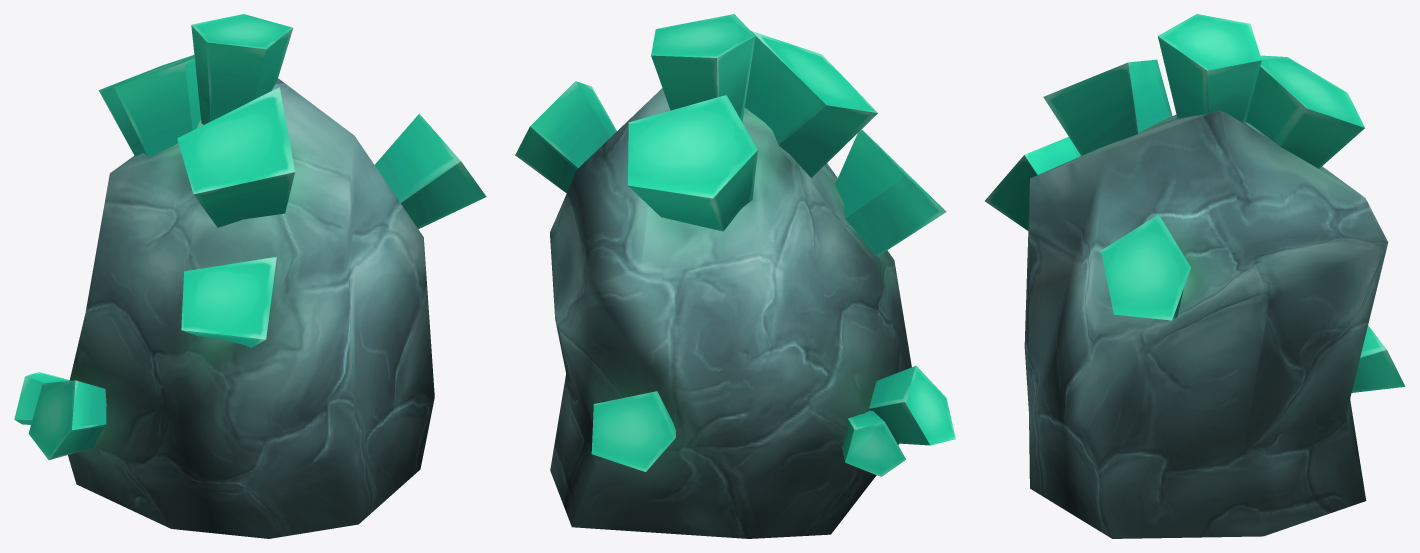
Rendered from ore_big_adamantite.fbx.
The picture shows the model from 3 angles, left to right: view 1: azimuth 30°, elevation 25°; view 2: azimuth 150°, elevation 25°; view 3: azimuth 270°, elevation 25°; orthographic projection. The views are drawn at different scales.
Parts seen in each view (by area): view 1: ore_big_adamantite:Mesh; view 2: ore_big_adamantite:Mesh; view 3: ore_big_adamantite:Mesh.
Part boxes in pixels (x1,y1,x2,y2): ore_big_adamantite:Mesh: (14, 14, 486, 538); ore_big_adamantite:Mesh: (515, 14, 955, 538); ore_big_adamantite:Mesh: (985, 14, 1405, 538).
Size of the model in its own units: 4.94 by 4.9 by 4.24.
